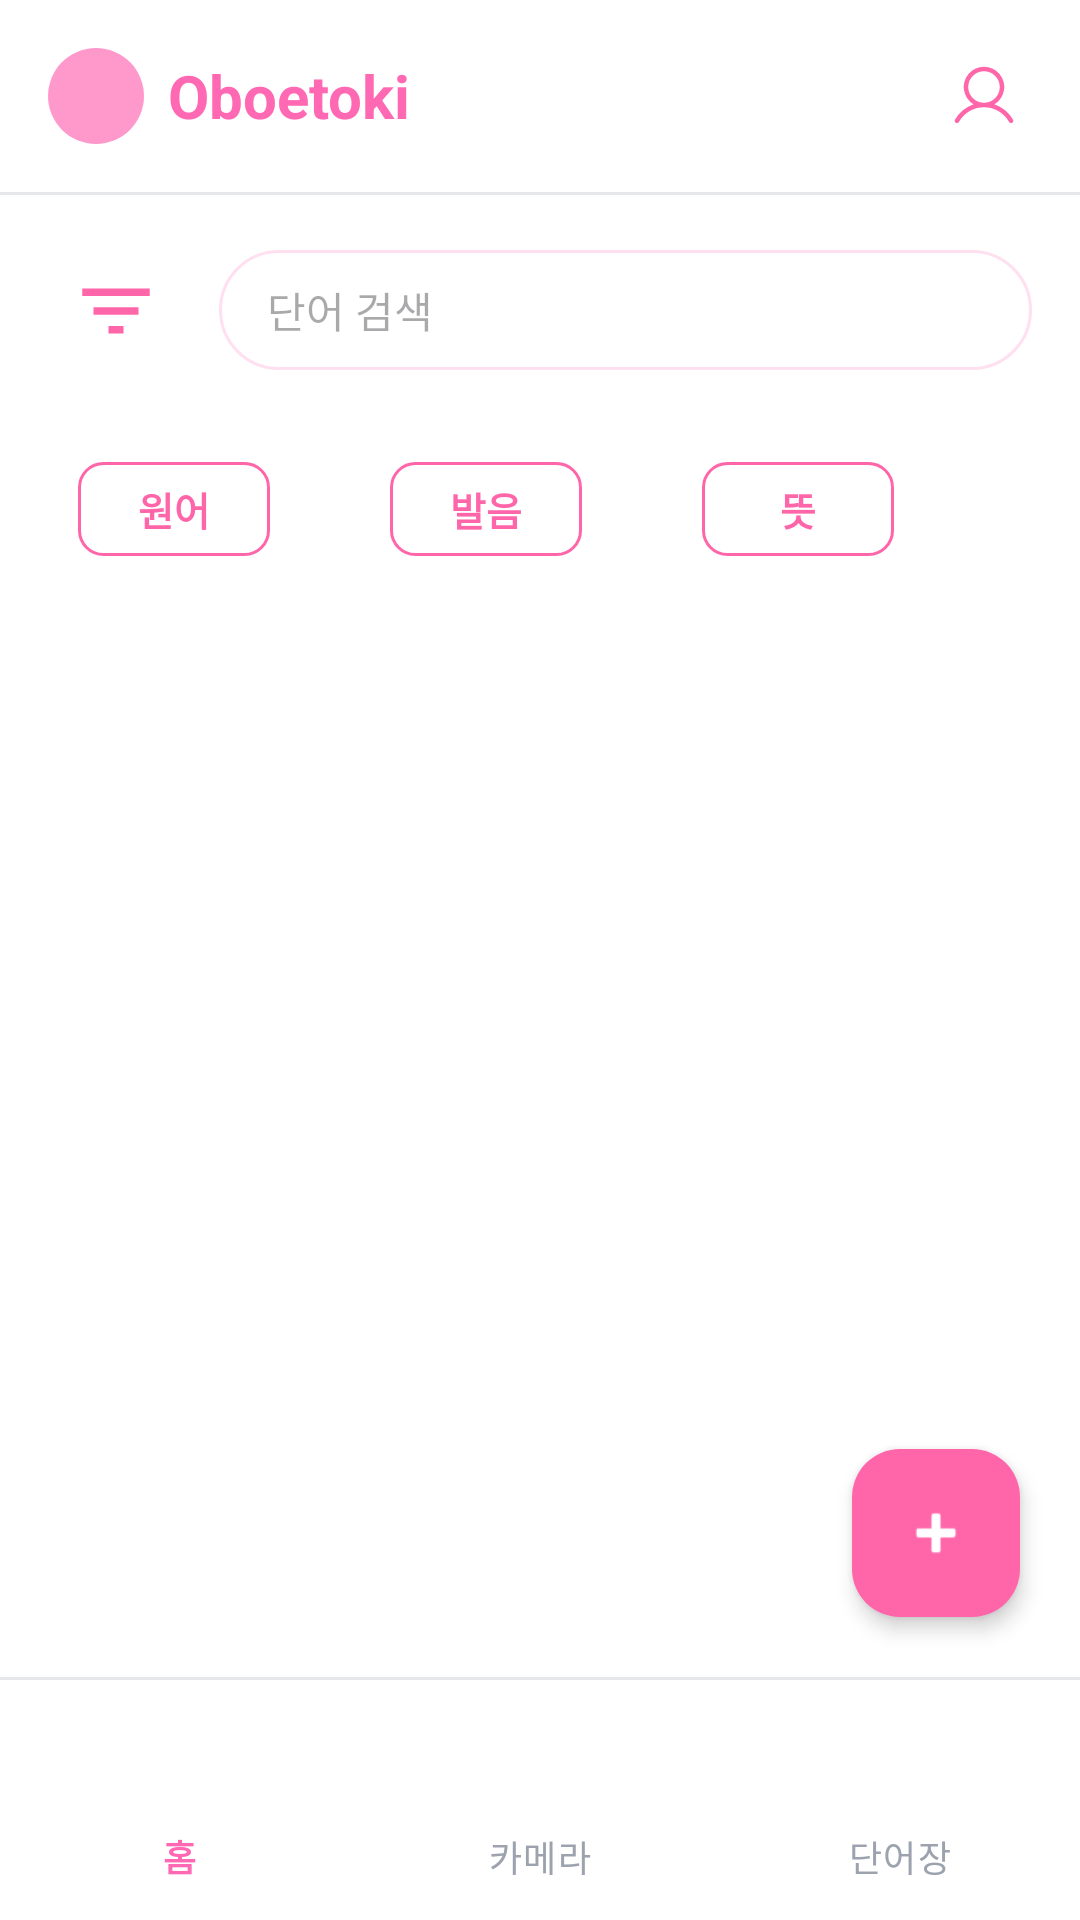

Named icons in this screenshot (1080px×1920px) and their bounding boxes, box=[x1, y1, x2, y2]:
단어 추가: box=[852, 1449, 1020, 1617]
필터: box=[82, 288, 150, 334]
